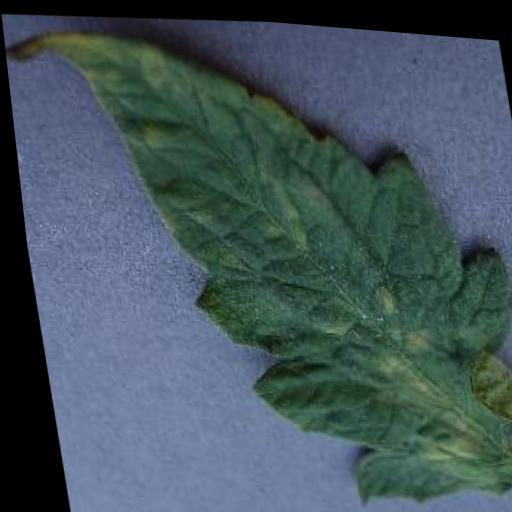Leaf Mold: (0, 3, 512, 512)
